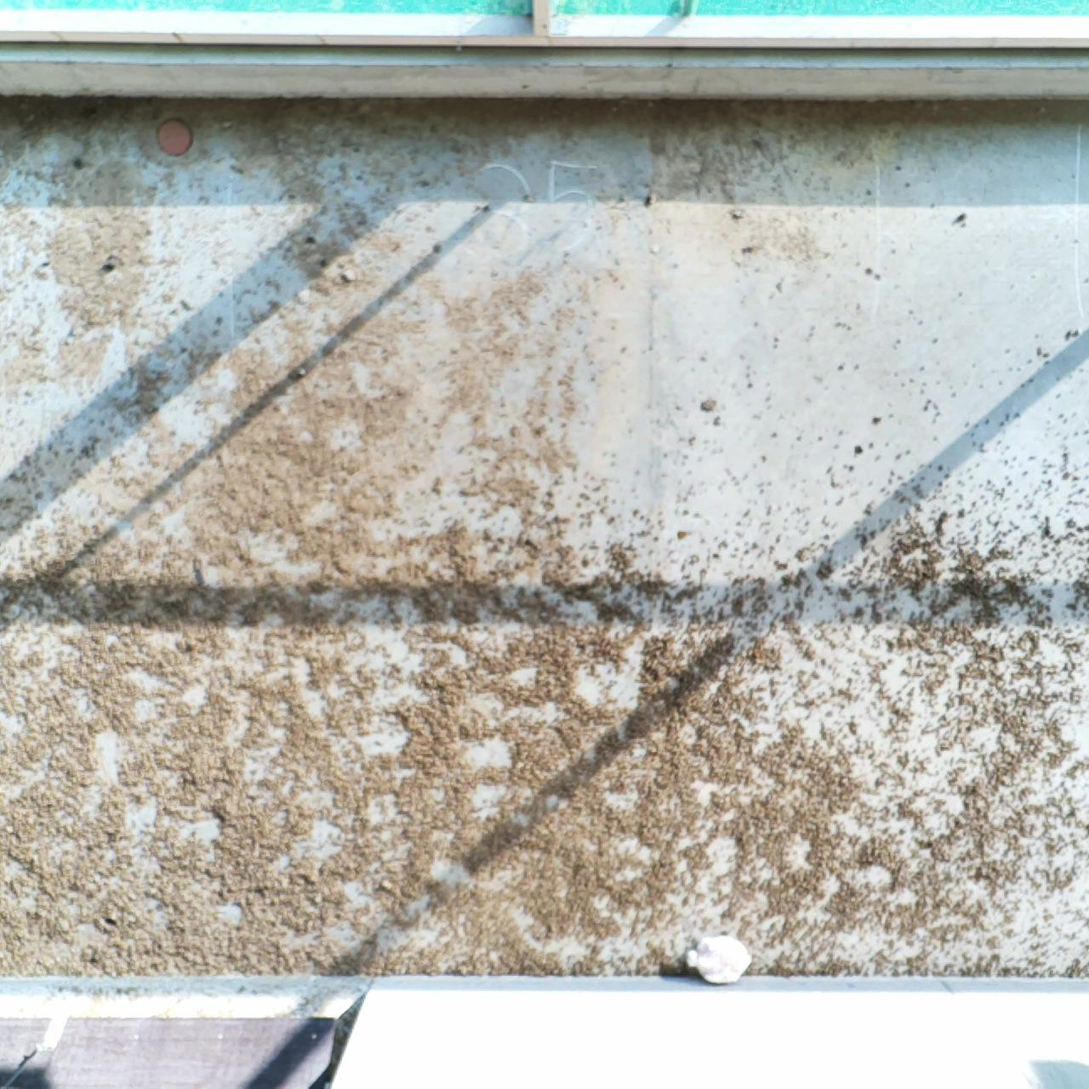chicken: (683, 935, 753, 985)
